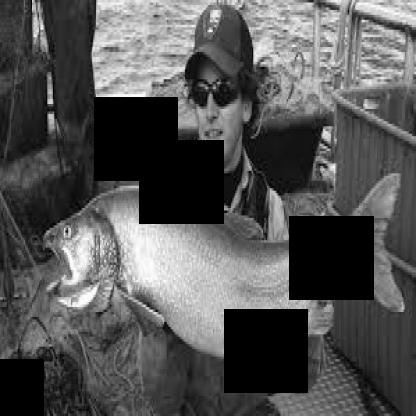fish: (39, 167, 404, 370)
